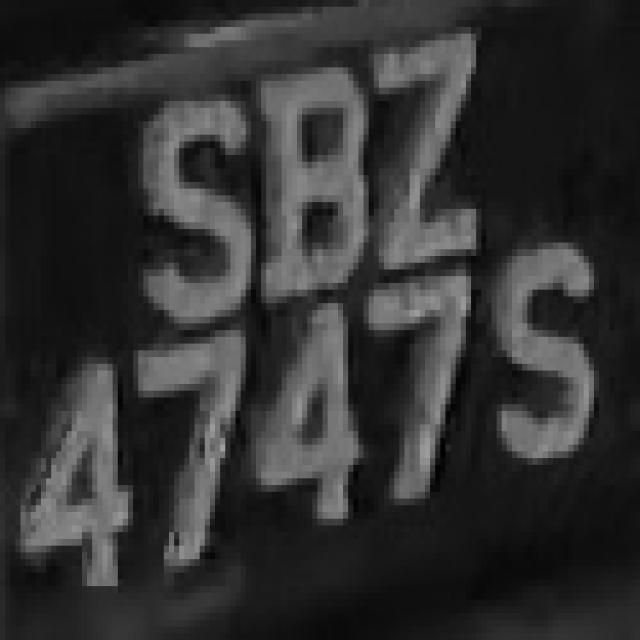4: (5, 324, 133, 626), (235, 296, 374, 546)
7: (113, 283, 256, 579), (364, 263, 486, 532)
B: (251, 40, 369, 324)
S: (476, 216, 620, 485), (118, 74, 246, 317)
Z: (348, 34, 502, 276)
